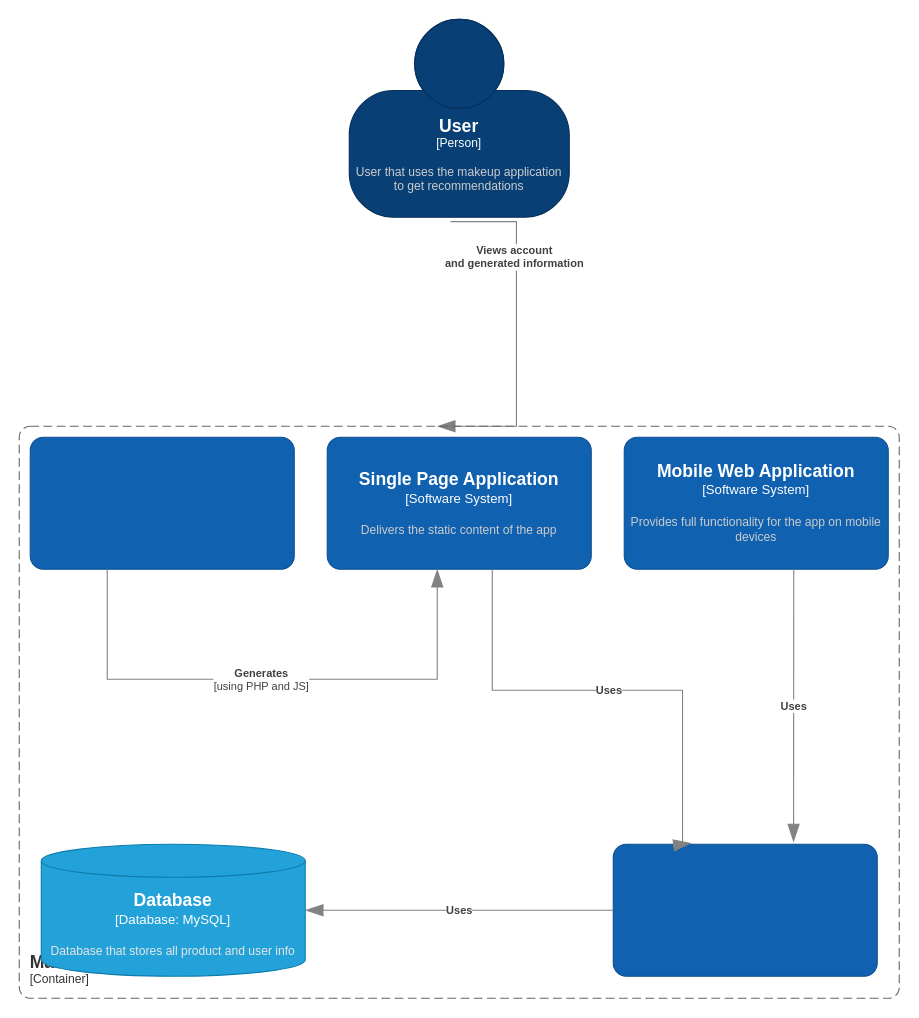
Image size: 919x1018. Some labels were removed from this diagram. The centre of each missing label's shape, as x and y in pixels:
API application [PHP and JavaScript] Provides main functionality: (x=744, y=909)
Web application [Software System] Delivers the dynamic content of the app: (x=161, y=502)
